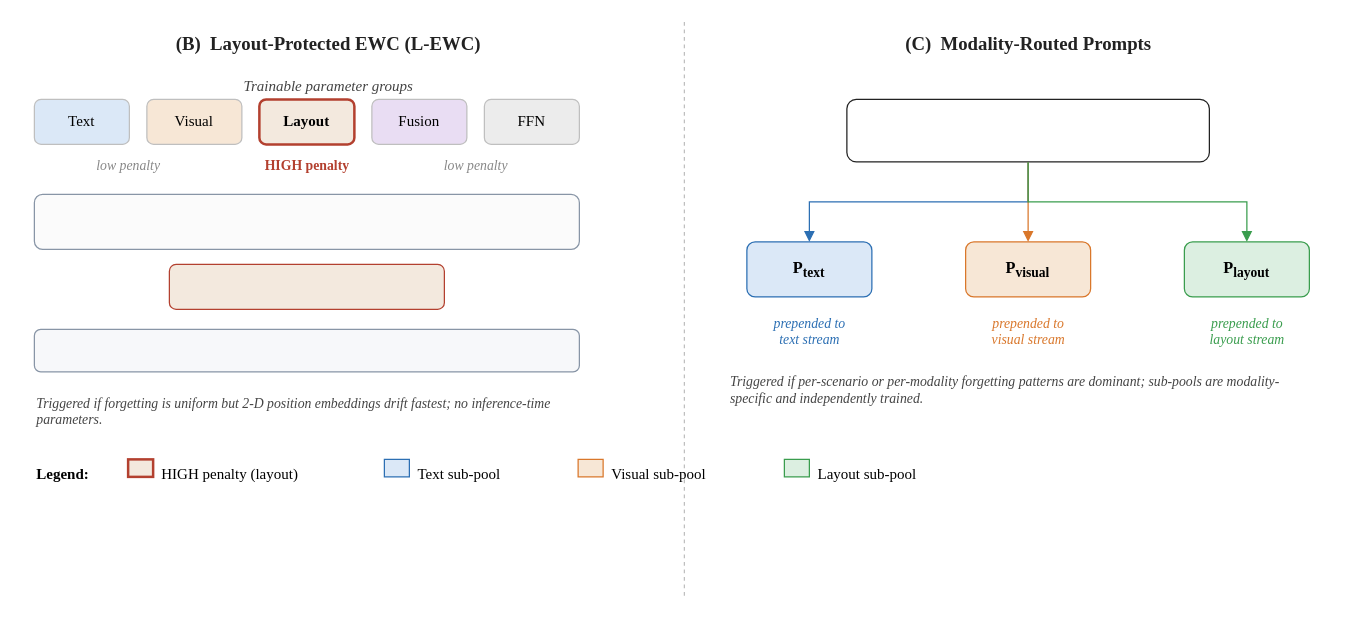
The diagram is 1355 pixels wide and 620 high, and some of its shapes have lost their labels. The box of each missing label's shape, as (x1, y1, x2, y2) in pixels:
L = L CE + λ layout F layout (θ−θ*) 2 + λ other F other (θ−θ*) 2: (33, 193, 579, 249)
Optional: layout-embedding distillation from previous-task model: (33, 328, 579, 372)
Router r(x) = softmax(MLP([h CLS ; φ(boxes) ; v̄])): (846, 98, 1209, 162)
λ layout >> λ other: (168, 263, 444, 309)
